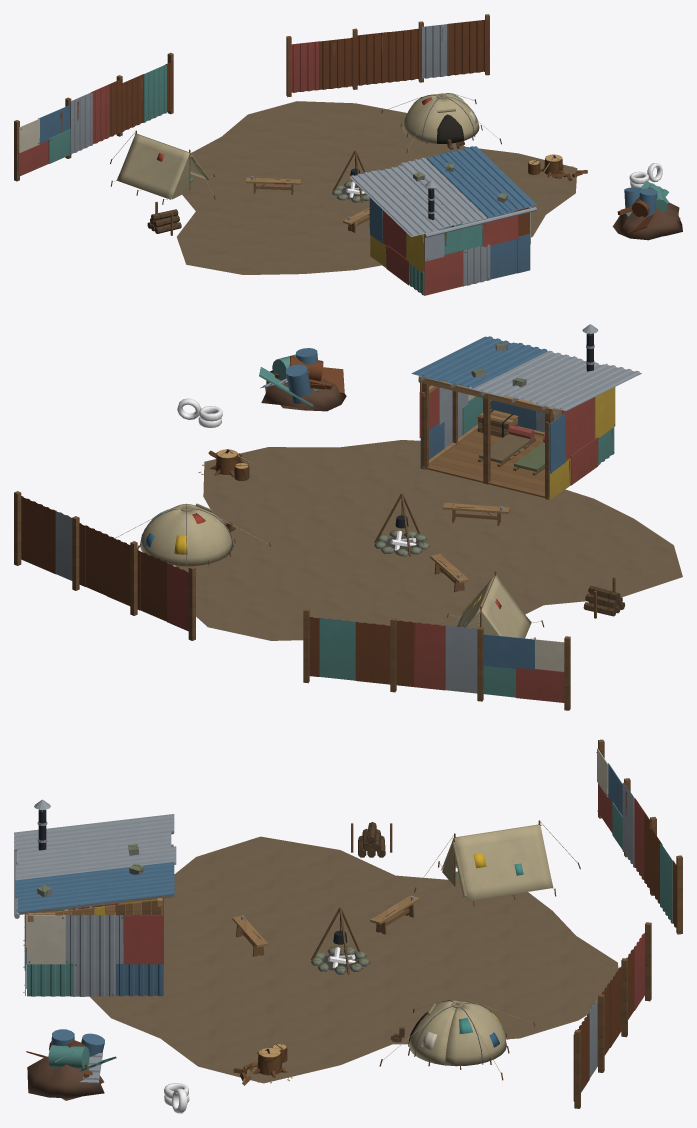
Rendered from campsite.glb.
The picture shows the model from 3 angles, top to bottom: view 1: azimuth 30°, elevation 25°; view 2: azimuth 150°, elevation 25°; view 3: azimuth 270°, elevation 25°; orthographic projection. The views are drawn at different scales.
Visible parts, largest first — view 1: campsite.001; view 2: campsite.001; view 3: campsite.001.
Boxes of the visible parts, x1,y1,x2,y2 form: campsite.001: (14,14,682,295); campsite.001: (14,324,682,710); campsite.001: (14,739,682,1113).
Size of what is drawn, in the model's own units: 18.44 by 3.99 by 17.07.
Materials: 83 (82 with a texture image).
